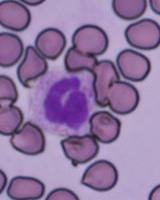N: (29, 70, 96, 136)
